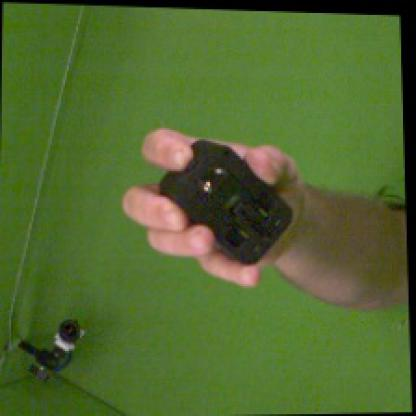Hand: (121, 127, 305, 287)
